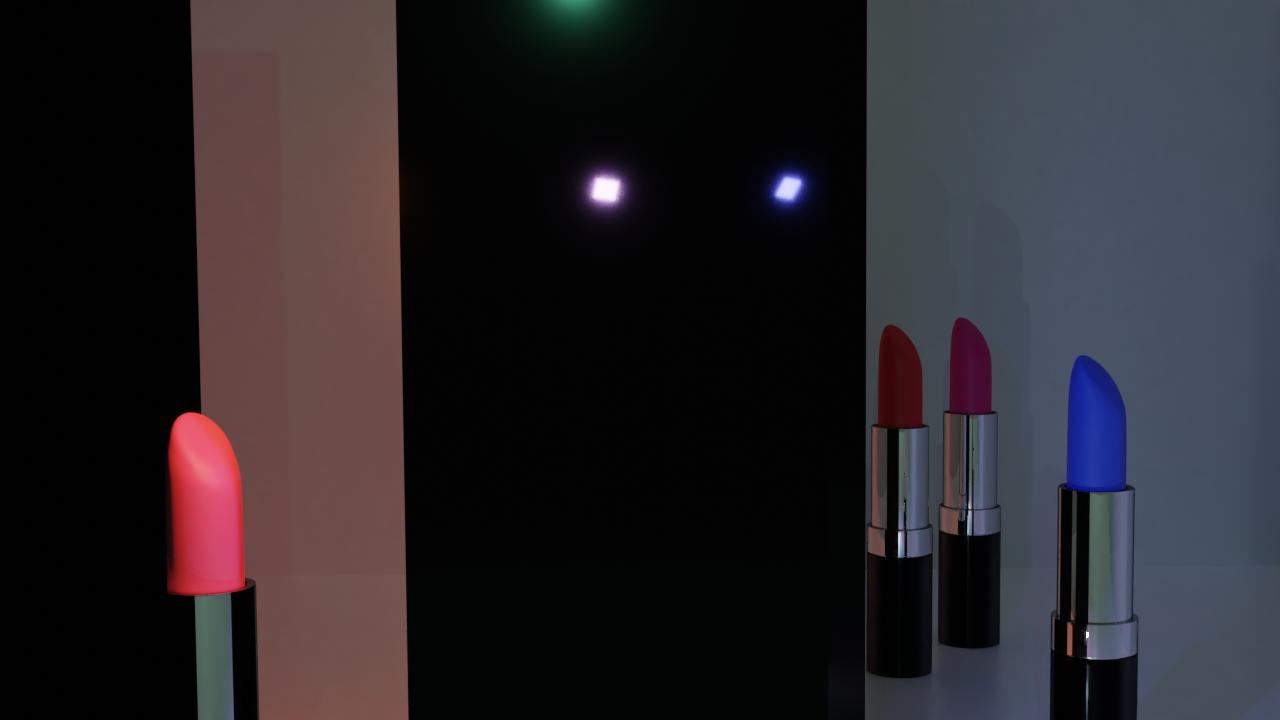CLASSIFIER_NAME: (150, 405, 275, 720), (1047, 349, 1141, 720), (865, 320, 934, 678), (937, 313, 1003, 649)
